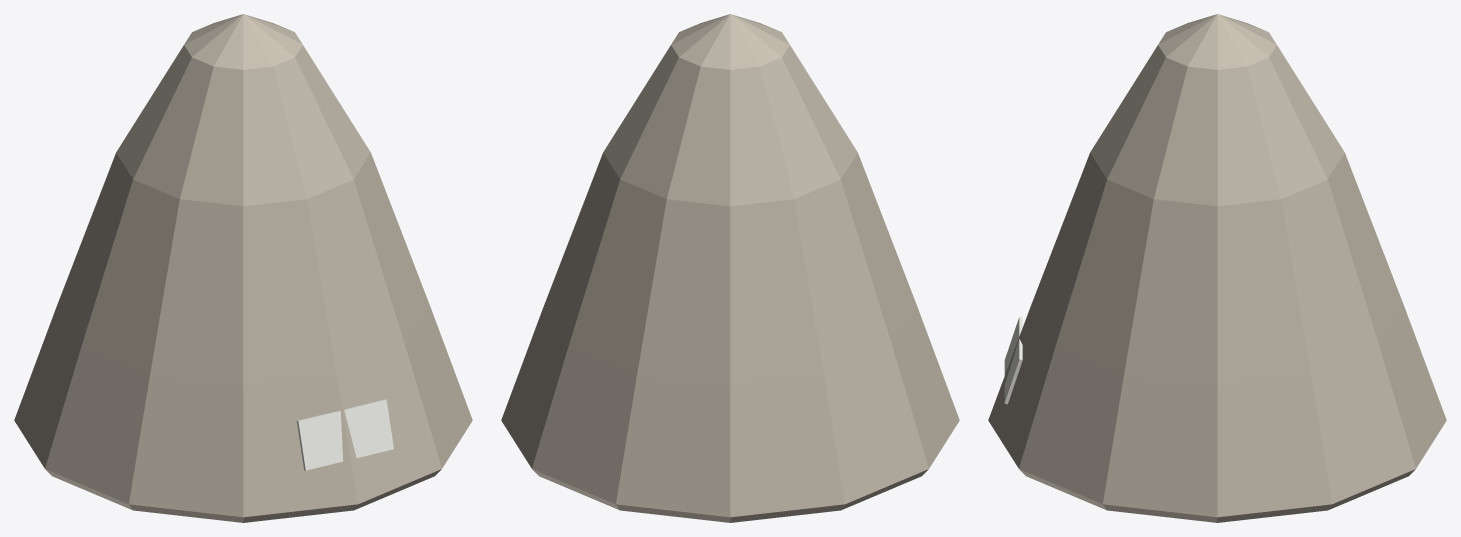
File: prop-felt-blank.fbx
3 renders of one model, left to right at view 1: azimuth 30°, elevation 25°; view 2: azimuth 150°, elevation 25°; view 3: azimuth 270°, elevation 25°, orthographic.
Visible parts, largest first — view 1: prop-felt-blank; view 2: prop-felt-blank; view 3: prop-felt-blank.
Boxes of the visible parts, x1=… form: prop-felt-blank: x1=14, y1=14, x2=472, y2=522; prop-felt-blank: x1=501, y1=14, x2=959, y2=522; prop-felt-blank: x1=988, y1=14, x2=1446, y2=522.
Size of the model in its own units: 27 by 27 by 27.
